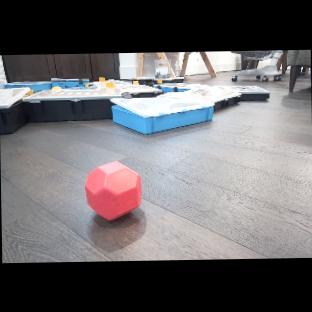V5_RED: (84, 159, 144, 223)
